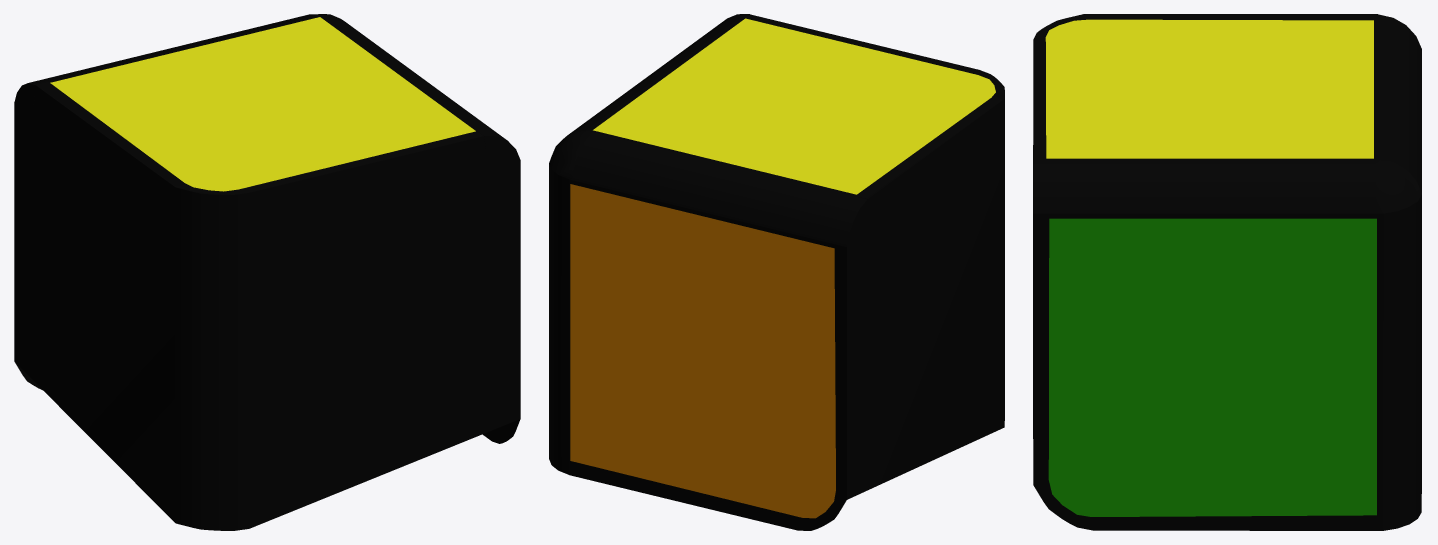
File: cornerYGO.fbx
3 views of the same model, side by side, from view 1: azimuth 30°, elevation 25°; view 2: azimuth 150°, elevation 25°; view 3: azimuth 270°, elevation 25° (orthographic). The views are drawn at different scales.
Parts seen in each view (by area): view 1: BasicCorner, ColoredSide1; view 2: BasicCorner, ColoredSide3, ColoredSide1; view 3: ColoredSide2, BasicCorner, ColoredSide1.
Boxes of the visible parts, x1,y1,x2,y2 form: BasicCorner: (14,14,520,530); ColoredSide1: (50,17,475,191); BasicCorner: (549,14,1004,530); ColoredSide3: (570,184,835,518); ColoredSide1: (593,18,995,194); ColoredSide2: (1048,218,1376,516); BasicCorner: (1033,14,1421,530); ColoredSide1: (1045,19,1373,158).
Bounding box in the file's own units: 65.57 × 65.28 × 65.57.
